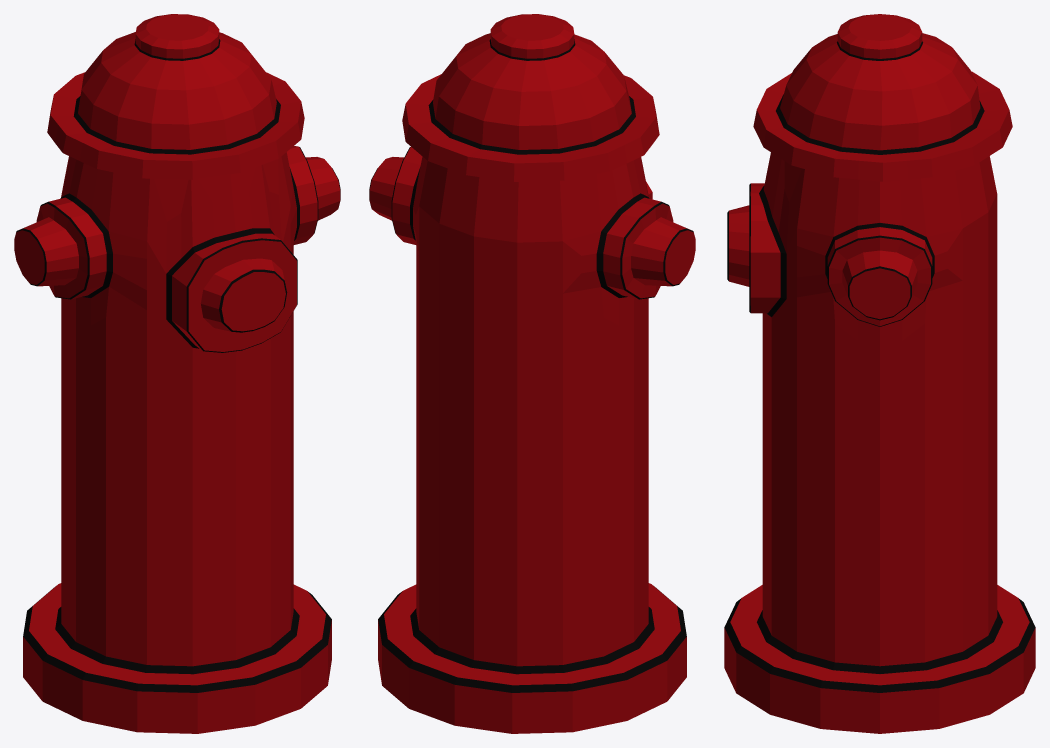
Rendered from fire_hydrant.fbx.
3 renders of one model, left to right at view 1: azimuth 30°, elevation 25°; view 2: azimuth 150°, elevation 25°; view 3: azimuth 270°, elevation 25°, orthographic.
Visible parts, largest first — view 1: Cylinder; view 2: Cylinder; view 3: Cylinder.
Part boxes in pixels (x1=…): Cylinder: x1=14, y1=14, x2=340, y2=733; Cylinder: x1=369, y1=14, x2=695, y2=733; Cylinder: x1=724, y1=14, x2=1035, y2=733.
Size of the model in its own units: 219 by 454 by 200.
